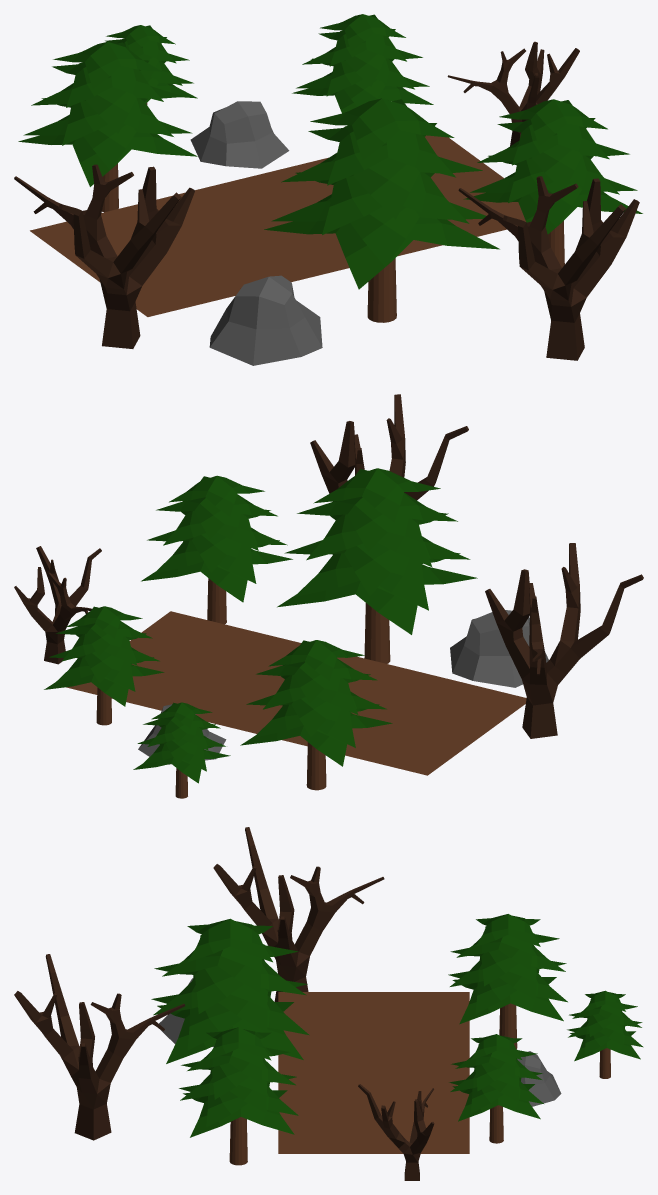
The model's file is Envi.fbx.
3 renders of one model, top to bottom at view 1: azimuth 30°, elevation 25°; view 2: azimuth 150°, elevation 25°; view 3: azimuth 270°, elevation 25°, orthographic. The views are drawn at different scales.
Parts seen in each view (by area): view 1: Plane, Tree, Tree.001, Tree.003, TreeVar2.002, TreeVar2.001, Rock.001, Tree.002, Rock, TreeVar2, Tree.004; view 2: Plane, Tree, Tree.001, Tree.003, TreeVar2.001, Tree.002, Tree.004, TreeVar2.002, Rock.001, TreeVar2, Rock; view 3: Plane, Tree, Tree.003, Tree.001, TreeVar2.002, TreeVar2.001, Tree.002, Tree.004, TreeVar2, Rock.
Part boxes in pixels (x1,y1,x2,y2): Plane: [30, 135, 525, 316]; Tree: [264, 98, 499, 322]; Tree.001: [18, 42, 197, 212]; Tree.003: [463, 99, 642, 267]; TreeVar2.002: [458, 176, 639, 360]; TreeVar2.001: [14, 164, 194, 348]; Rock.001: [209, 275, 322, 365]; Tree.002: [292, 14, 433, 125]; Rock: [190, 101, 289, 168]; TreeVar2: [447, 41, 579, 146]; Tree.004: [105, 25, 197, 104]; Plane: [66, 611, 526, 775]; Tree: [277, 468, 477, 663]; Tree.001: [240, 640, 392, 790]; Tree.003: [141, 475, 292, 624]; TreeVar2.001: [485, 543, 643, 738]; Tree.002: [44, 606, 164, 725]; Tree.004: [133, 702, 230, 798]; TreeVar2.002: [310, 394, 468, 500]; Rock.001: [450, 610, 548, 687]; TreeVar2: [14, 546, 101, 664]; Rock: [138, 704, 226, 764]; Plane: [278, 992, 469, 1153]; Tree: [151, 918, 309, 1063]; Tree.003: [179, 1027, 298, 1165]; Tree.001: [448, 914, 567, 1048]; TreeVar2.002: [14, 954, 185, 1140]; TreeVar2.001: [213, 827, 384, 1001]; Tree.002: [449, 1034, 543, 1143]; Tree.004: [567, 990, 643, 1078]; TreeVar2: [358, 1084, 434, 1180]; Rock: [517, 1051, 561, 1106].
Bounding box in the file's own units: 1180 × 407 × 1316.
